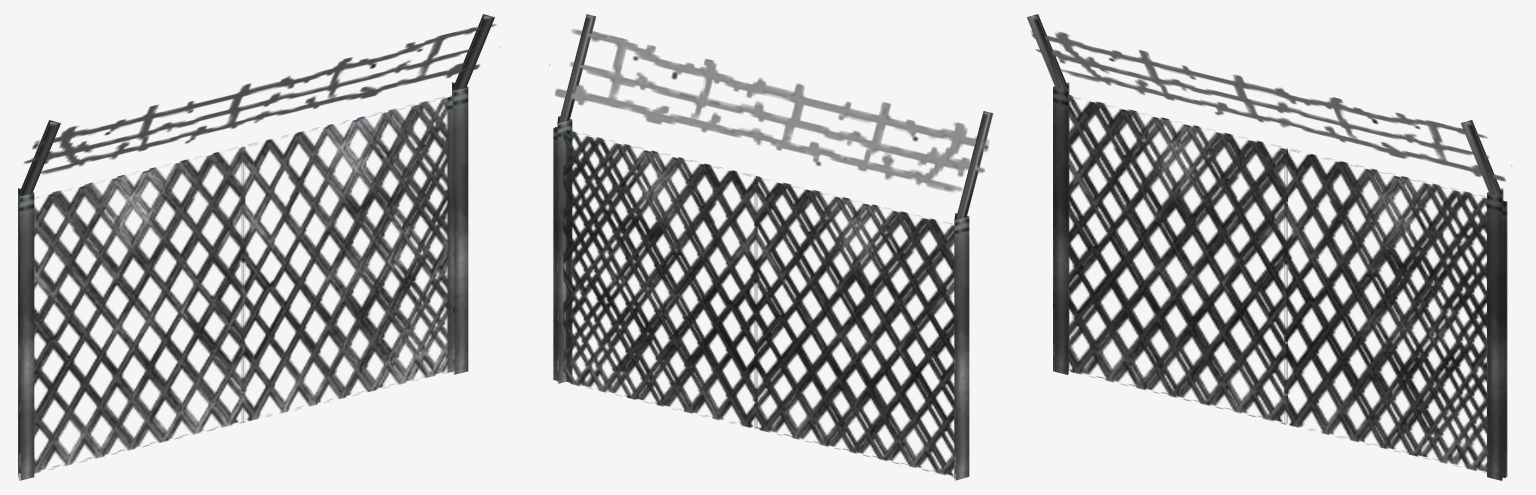
Rendered from Environment - Prop - Chain Link Fence 01 - Damaged - PMWallChn6_D.glb.
3 views of the same model, side by side, from view 1: azimuth 30°, elevation 25°; view 2: azimuth 150°, elevation 25°; view 3: azimuth 330°, elevation 25° (orthographic). The views are drawn at different scales.
Visible parts, largest first — view 1: PMWALLCHN6_D; view 2: PMWALLCHN6_D; view 3: PMWALLCHN6_D.
Part boxes in pixels (left/top/right/bottom): PMWALLCHN6_D: left=18, top=14, right=499, bottom=480; PMWALLCHN6_D: left=549, top=14, right=993, bottom=480; PMWALLCHN6_D: left=1027, top=14, right=1511, bottom=480.
Bounding box in the file's own units: 30.06 × 22.65 × 4.11.
2 materials, 2 textured.
